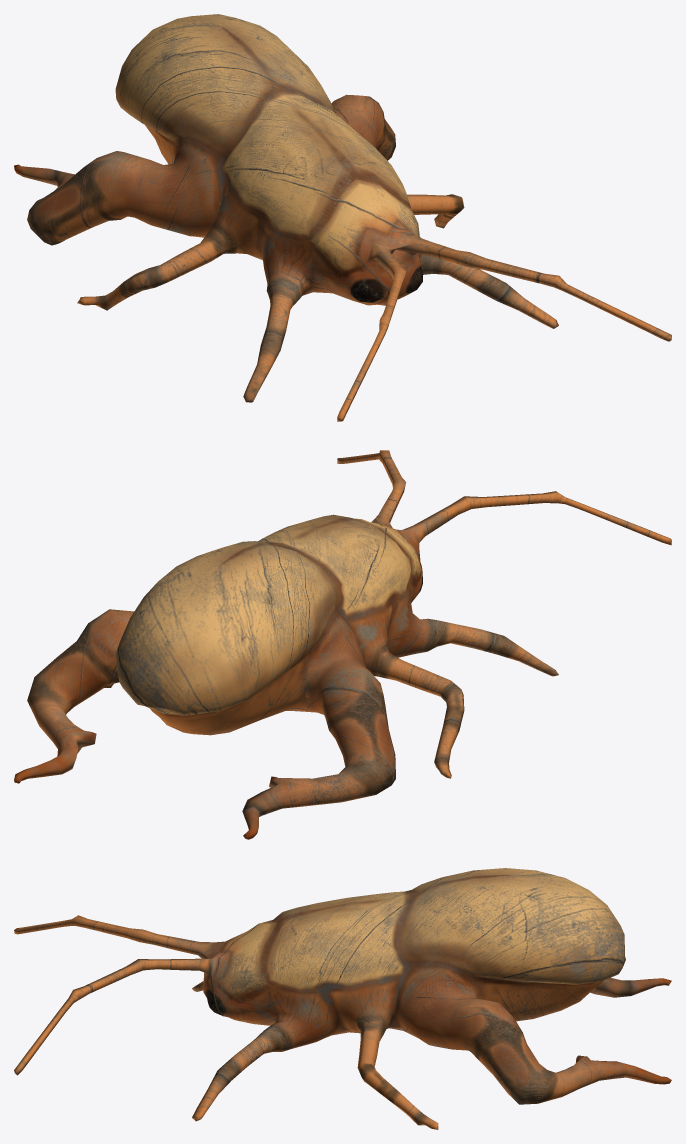
The model's file is wooden_insect.glb.
The picture shows the model from 3 angles, top to bottom: view 1: azimuth 30°, elevation 25°; view 2: azimuth 150°, elevation 25°; view 3: azimuth 270°, elevation 25°; orthographic projection. The views are drawn at different scales.
Visible parts, largest first — view 1: Object_2; view 2: Object_2; view 3: Object_2.
Boxes of the visible parts, box(x1,y1,x2,y2) form: Object_2: box(14, 14, 671, 421); Object_2: box(14, 450, 671, 839); Object_2: box(14, 868, 671, 1129).
Bounding box in the file's own units: 21.94 × 11.62 × 38.21.
1 material, 1 textured.
